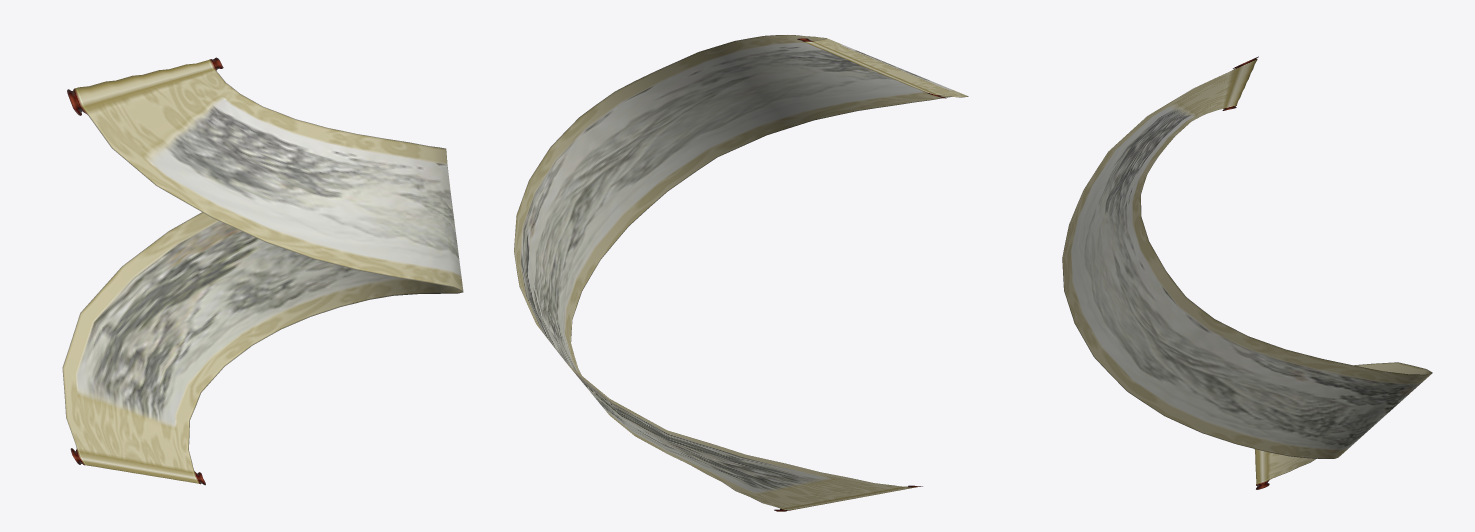
The model's file is luoxuanxing.FBX.
The picture shows the model from 3 angles, left to right: view 1: azimuth 30°, elevation 25°; view 2: azimuth 150°, elevation 25°; view 3: azimuth 270°, elevation 25°; orthographic projection. The views are drawn at different scales.
Visible parts, largest first — view 1: Plane001; view 2: Plane001; view 3: Plane001.
Boxes of the visible parts, x1=… form: Plane001: x1=62, y1=57, x2=463, y2=485; Plane001: x1=514, y1=35, x2=968, y2=511; Plane001: x1=1062, y1=56, x2=1432, y2=489.
Bounding box in the file's own units: 6.03 × 7.06 × 6.28.
